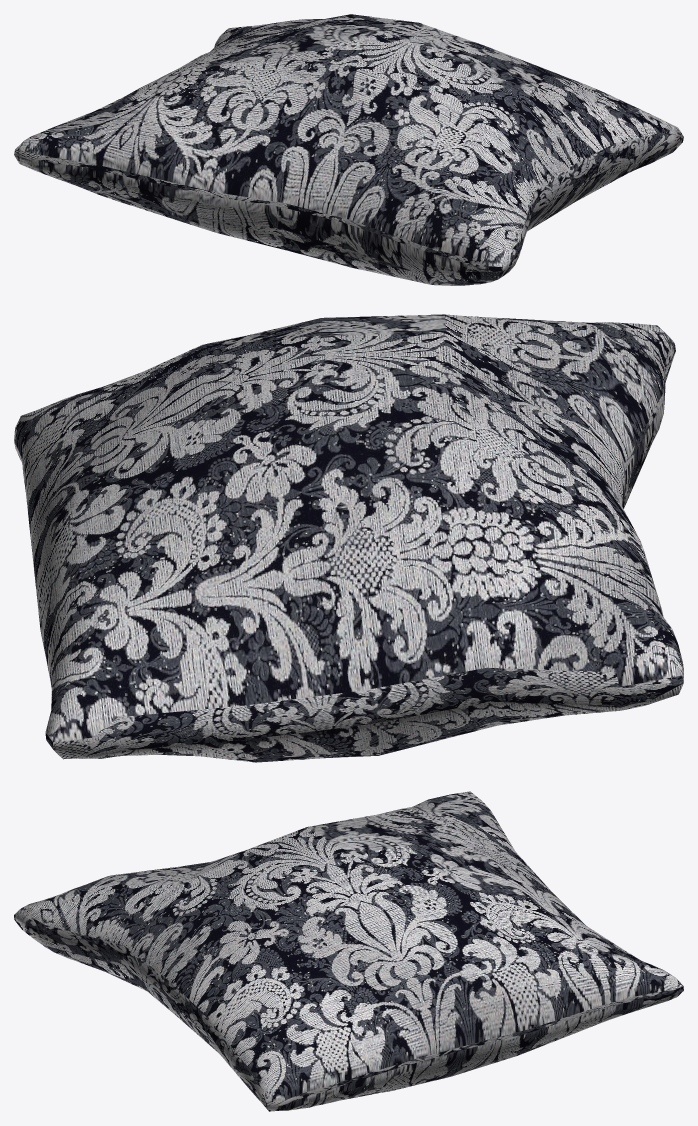
The model's file is Pillow.FBX.
3 views of the same model, one above another, from view 1: azimuth 30°, elevation 25°; view 2: azimuth 150°, elevation 25°; view 3: azimuth 270°, elevation 25° (orthographic). The views are drawn at different scales.
Parts seen in each view (by area): view 1: pillow; view 2: pillow; view 3: pillow.
Boxes of the visible parts, x1,y1,x2,y2 form: pillow: (14, 14, 683, 285); pillow: (14, 314, 683, 762); pillow: (14, 791, 683, 1111).
Size of the model in its own units: 540 by 580 by 184.
Materials: 1 (1 with a texture image).
